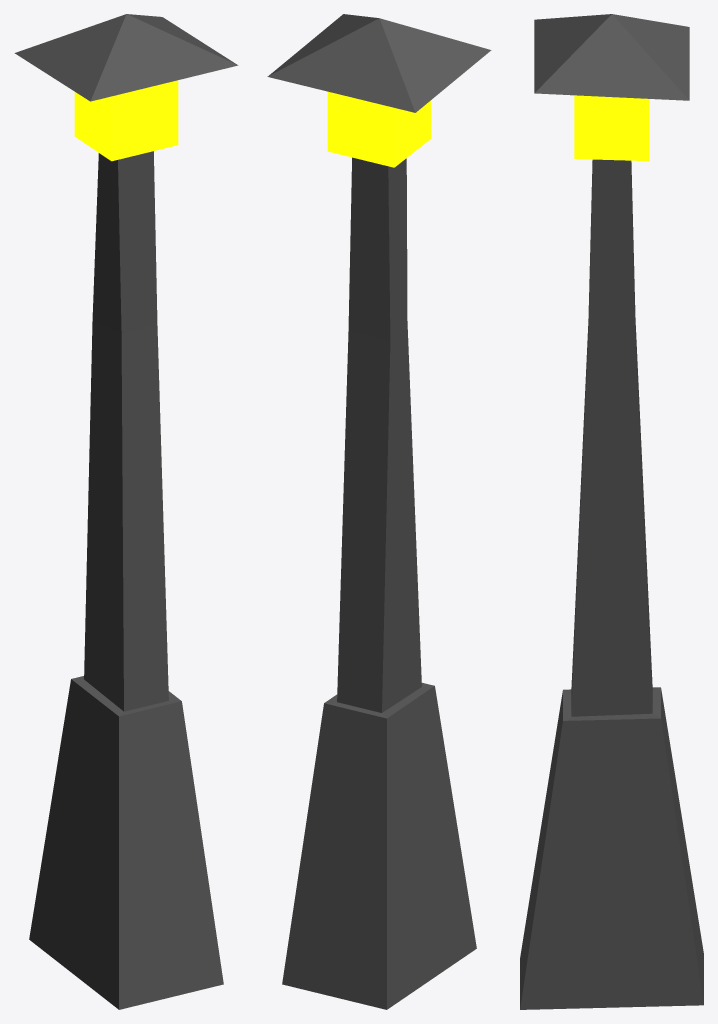
Rendered from p-bld-background_lamp.glb.
3 views of the same model, side by side, from view 1: azimuth 30°, elevation 25°; view 2: azimuth 150°, elevation 25°; view 3: azimuth 270°, elevation 25° (orthographic). The views are drawn at different scales.
Visible parts, largest first — view 1: Cube; view 2: Cube; view 3: Cube.
Boxes of the visible parts, <box> form: Cube: <box>14,14,238,1009</box>; Cube: <box>267,14,491,1009</box>; Cube: <box>520,14,703,1009</box>.
Size of the model in its own units: 1.71 by 10.49 by 1.8.
